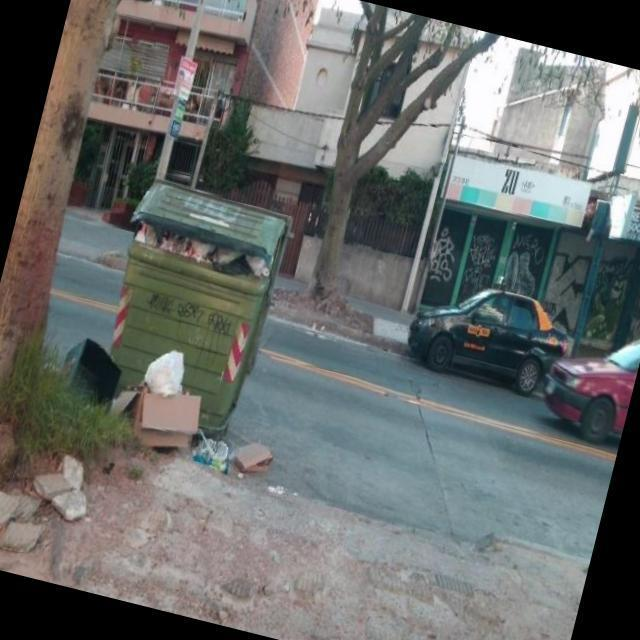garbage: (101, 339, 216, 470), (130, 216, 273, 282), (228, 430, 278, 488), (186, 428, 238, 483)
